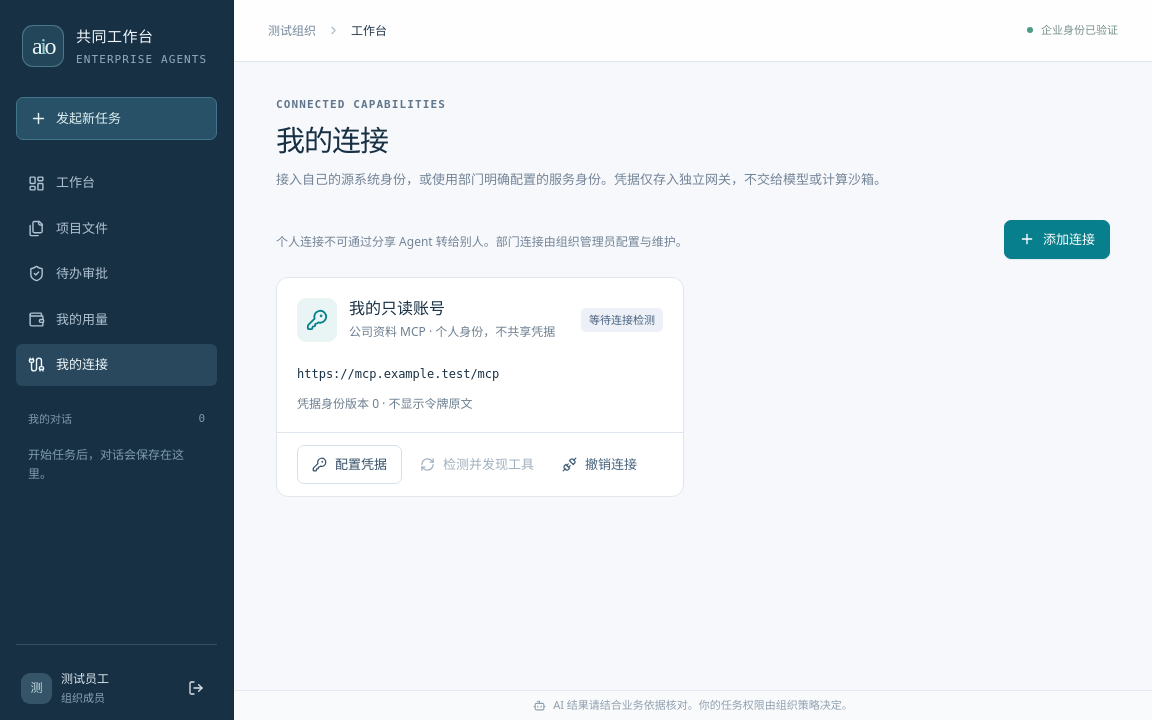
Scenario: does not mistake encrypted storage for successful upstream authentication
Click the button "配置凭据": x=350, y=465 [297,445,402,484]
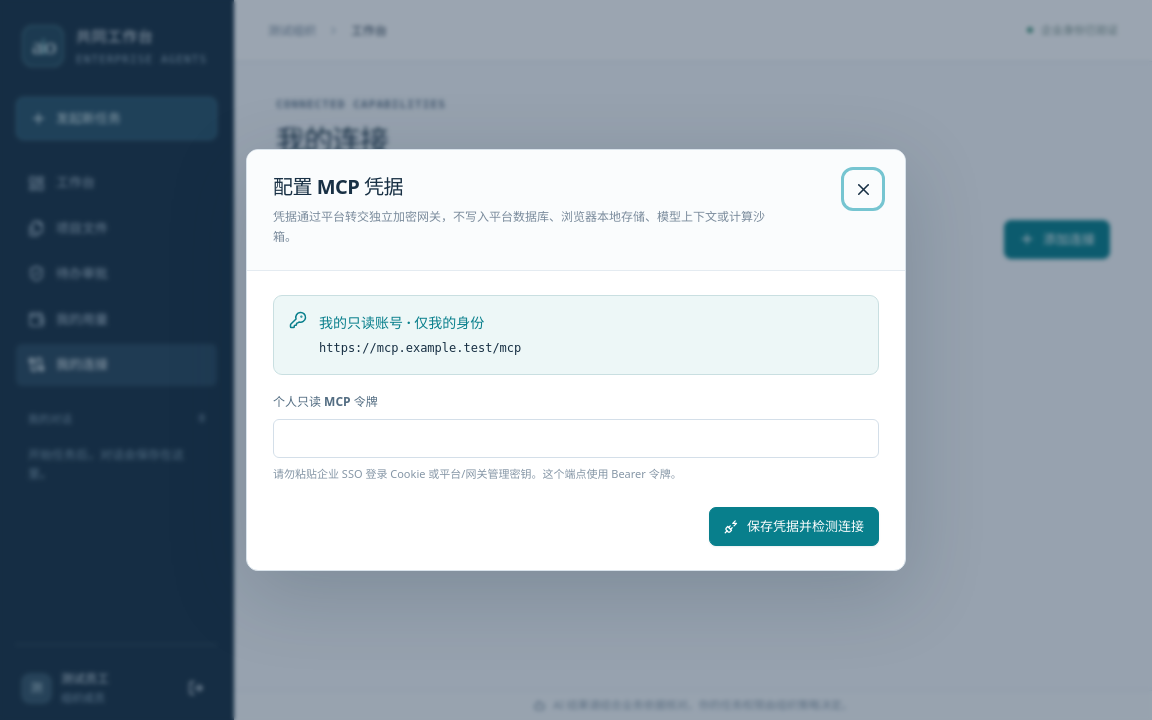
In the password field labelled "个人只读 MCP 令牌": x=576, y=438 [273,419,879,458], type "synthetic-private-employee-mcp-token"
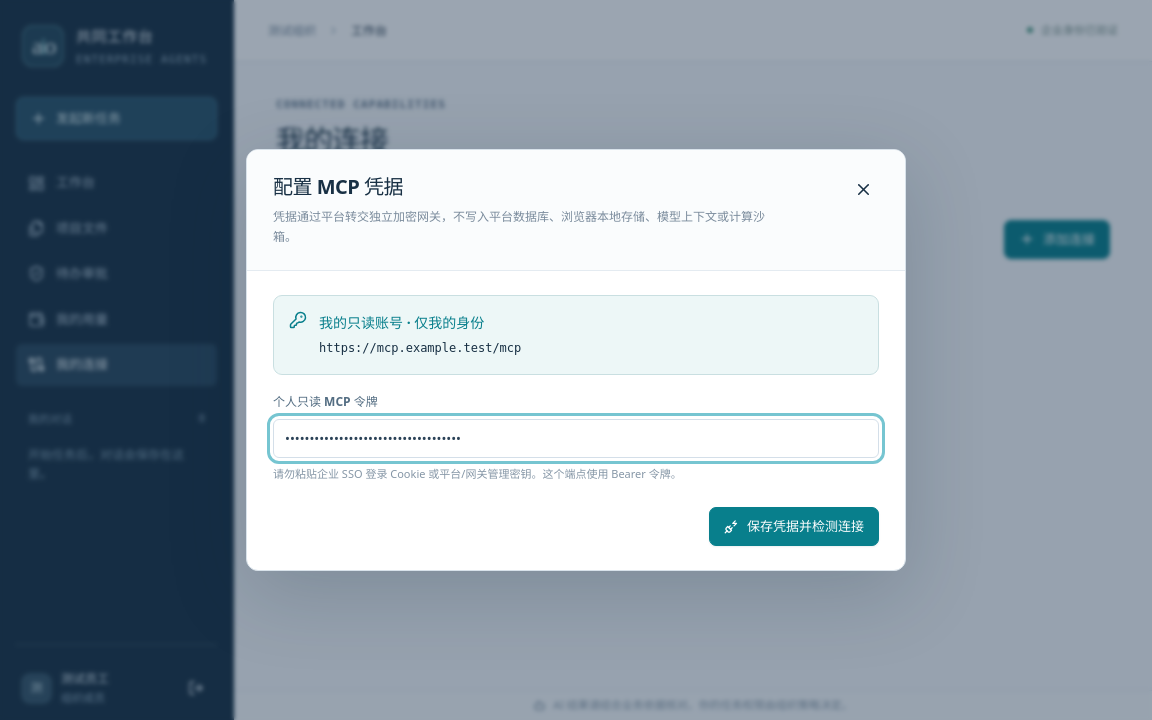
Click the button "保存凭据并检测连接": x=794, y=526 [709,507,879,546]
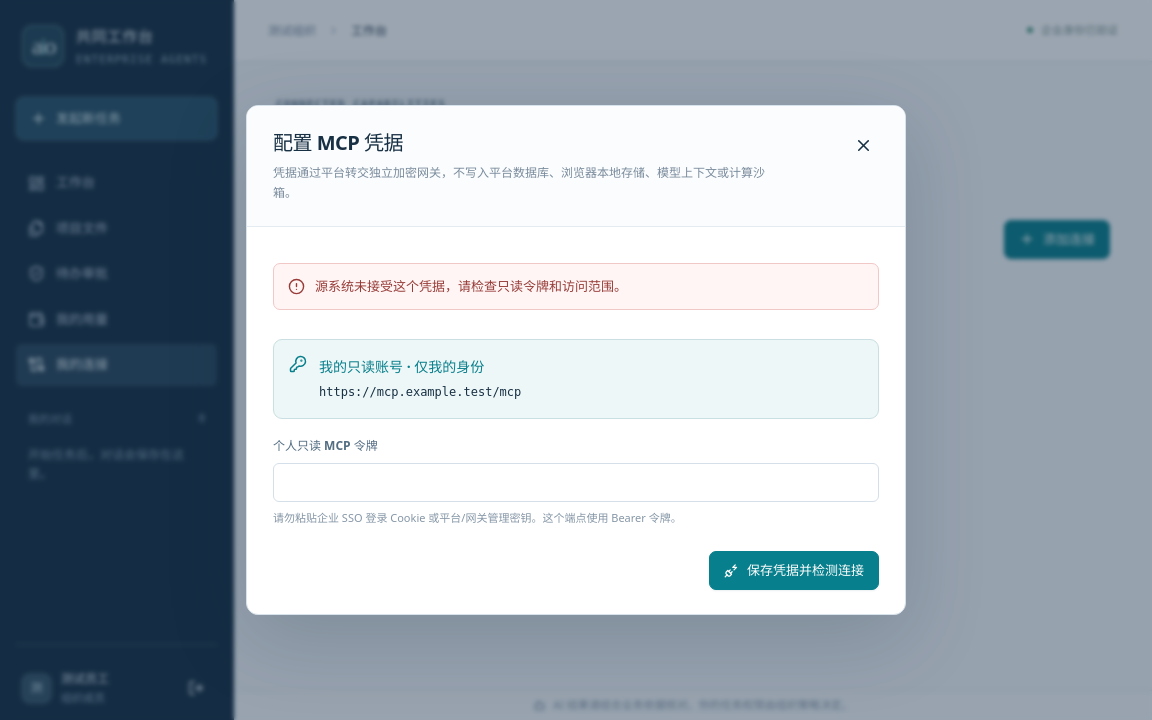
Expected: the text "源系统未接受这个凭据，请检查只读令牌和访问范围。" is shown, [315,276,627,297]
Expected: the password field labelled "个人只读 MCP 令牌" is empty, [273,463,879,502]
